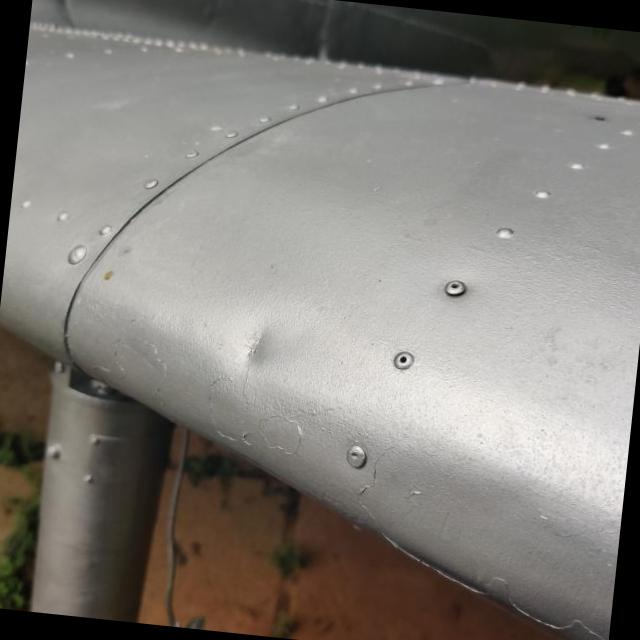Dent: (197, 296, 307, 398)
